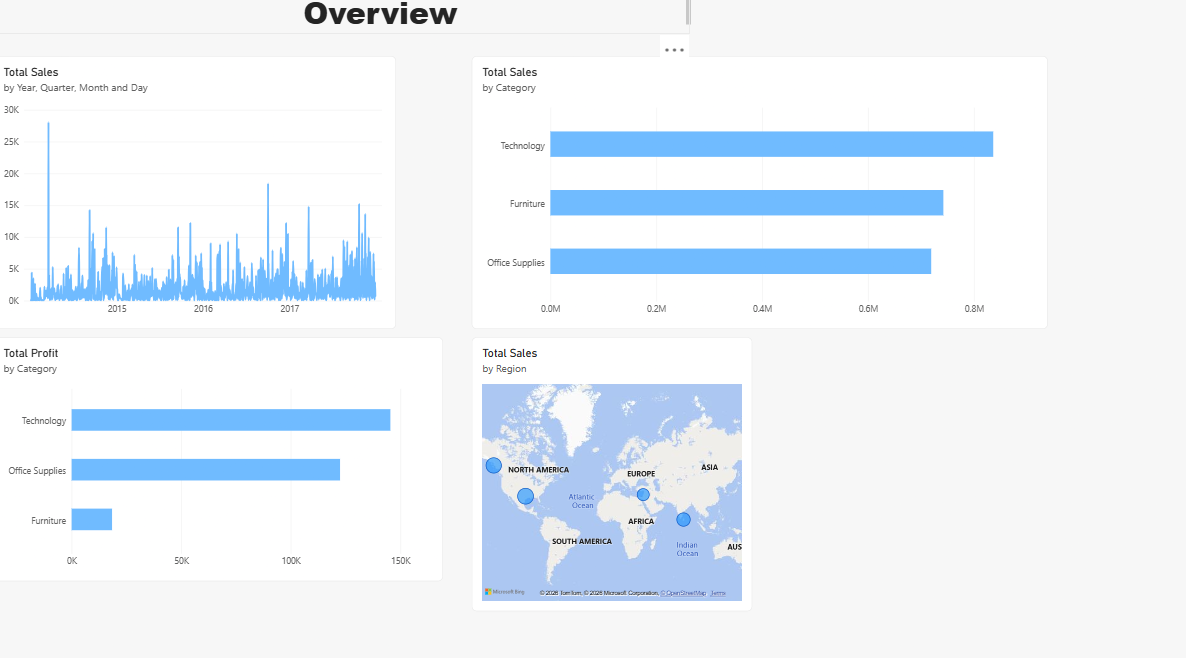

Layout of this report page (visuals, bound fields, positions):
{"tool":"powerbi","page":{"name":"Page 1- Overview","canvas":[1920,1080],"ordinal":0},"visuals":[{"type":"lineChart","fields":{"Category":["Orders.Order Date.Variation.Date Hierarchy.Year","Orders.Order Date.Variation.Date Hierarchy.Quarter","Orders.Order Date.Variation.Date Hierarchy.Month","Orders.Order Date.Variation.Date Hierarchy.Day"],"Y":["Orders.Total Sales"]},"box":[0,103.3,645,436.7],"z":0},{"type":"barChart","fields":{"Category":["Orders.Category"],"Y":["Orders.Total Sales"]},"box":[766.7,103.3,921.7,436.7],"z":1000},{"type":"barChart","fields":{"Category":["Orders.Category"],"Y":["Orders.Total Profit"]},"box":[0,553.3,720,390],"z":2000},{"type":"textbox","box":[0,0,1116.7,68.3],"z":4000},{"type":"map","fields":{"Category":["Orders.Region"],"Size":["Orders.Total Sales"]},"box":[766.2,553.8,448.8,438.8],"z":4001}]}

Visuals, with their boxes in screenshot pixels (x1, y1, x2, y2), scaled from the page's 1920x1080 canvas onto the 1186x658 screenshot:
lineChart - Orders.Order Date.Variation.Date Hierarchy.Year x Orders.Order Date.Variation.Date Hierarchy.Quarter: [x1=0, y1=63, x2=398, y2=329]
barChart - Orders.Category x Orders.Total Sales: [x1=474, y1=63, x2=1043, y2=329]
barChart - Orders.Category x Orders.Total Profit: [x1=0, y1=337, x2=445, y2=575]
textbox: [x1=0, y1=0, x2=690, y2=42]
map - Orders.Region x Orders.Total Sales: [x1=473, y1=337, x2=751, y2=605]
